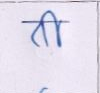i_matra: (45, 10, 66, 48)
